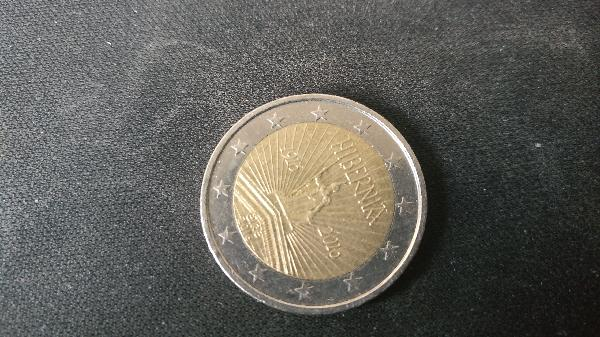Two Euro: (195, 95, 449, 316)
